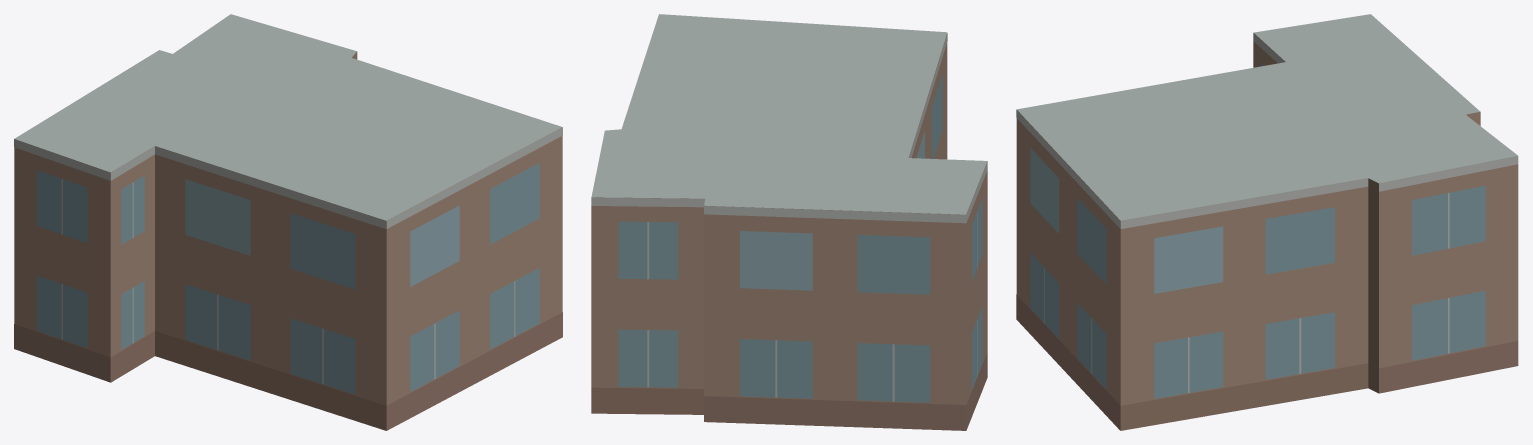
Rendered from survey-upis-32728004.glb.
3 renders of one model, left to right at view 1: azimuth 30°, elevation 25°; view 2: azimuth 150°, elevation 25°; view 3: azimuth 270°, elevation 25°, orthographic. The views are drawn at different scales.
Parts seen in each view (by area): view 1: survey-upis-32728004.tmp; view 2: survey-upis-32728004.tmp; view 3: survey-upis-32728004.tmp.
Boxes of the visible parts, <box> form: survey-upis-32728004.tmp: <box>14,14,562,430</box>; survey-upis-32728004.tmp: <box>591,14,987,430</box>; survey-upis-32728004.tmp: <box>1016,14,1518,430</box>.
Size of the model in its own units: 12.88 by 6.1 by 13.21.
